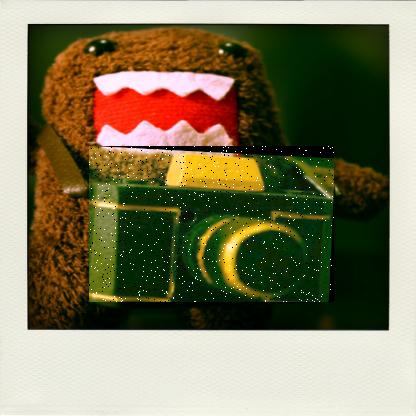Camera: (90, 147, 336, 304)
